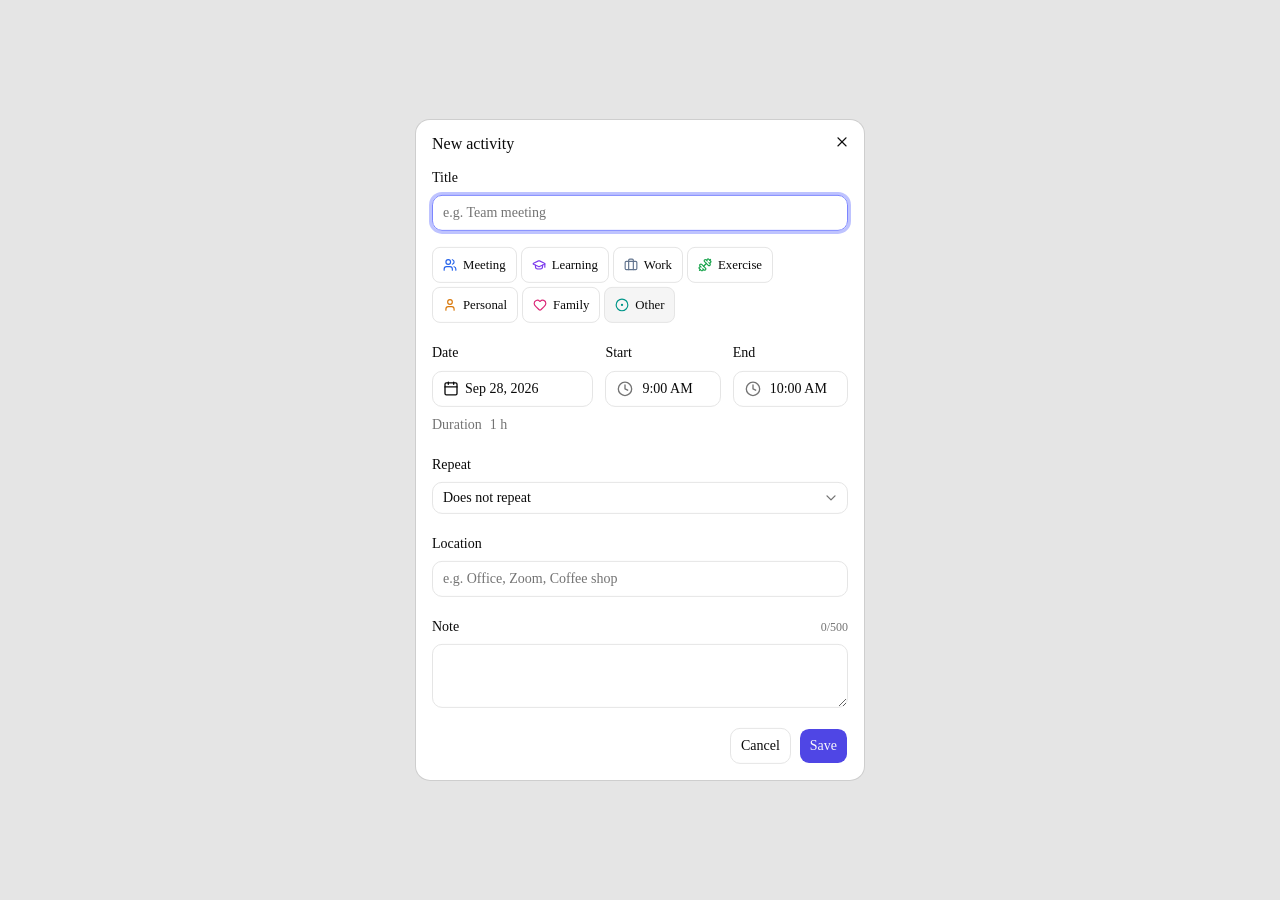
Test: ActivityFormDialog › uses 30 minutes for a meeting until the end is set by hand
Click the radio button labelled "Meeting". click: click(474, 265)
box: [432,247,517,283]
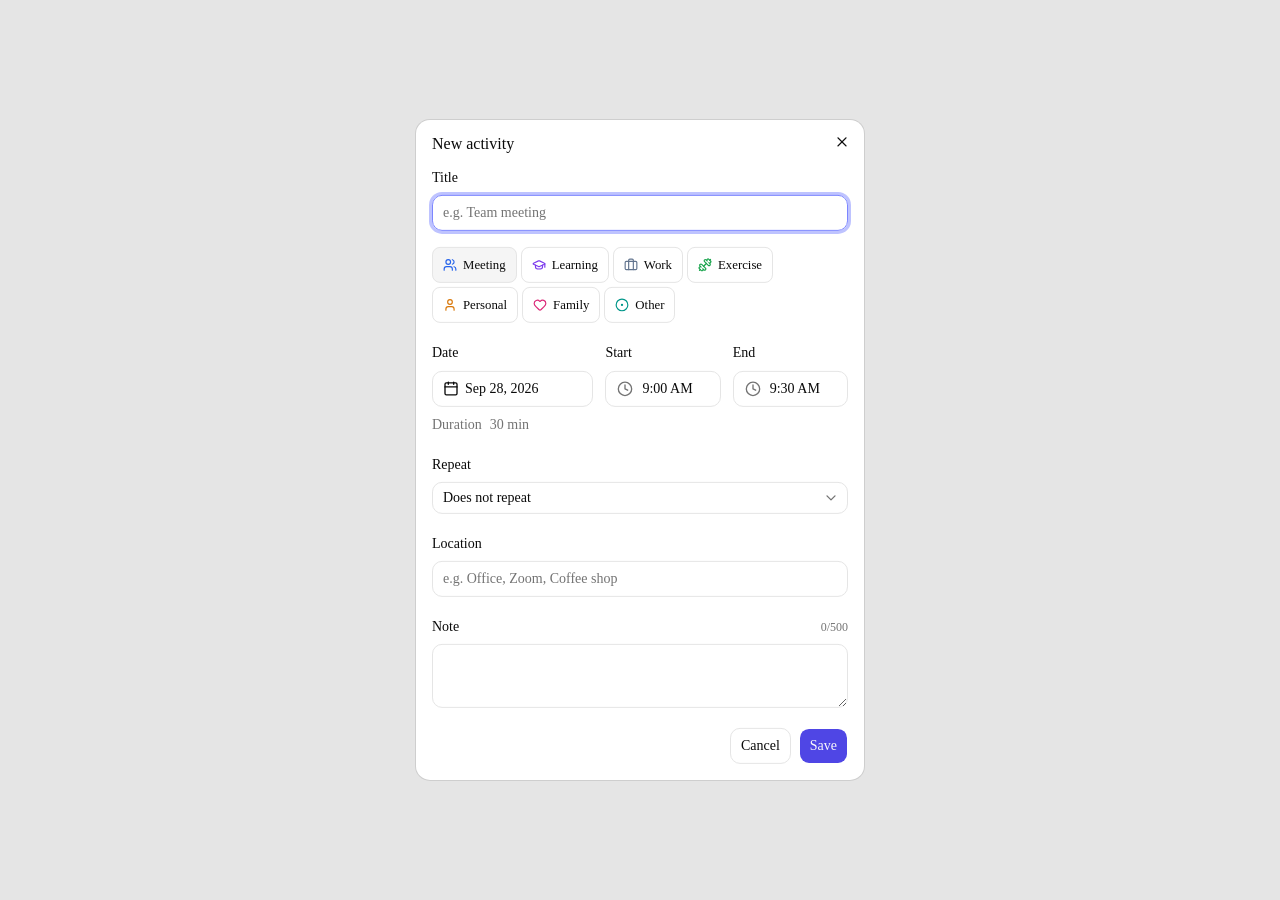
Expected: the field labelled "End" holds "9:30 AM", [733,370,848,406]
